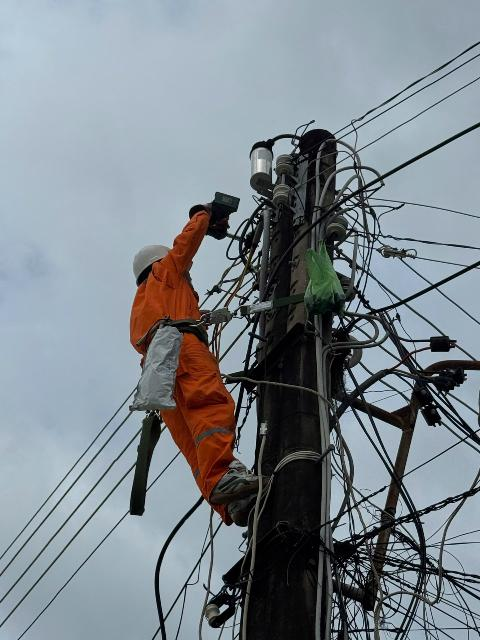gloves: (188, 192, 252, 242)
harness: (124, 315, 232, 353)
helmet: (124, 231, 183, 288)
shoes: (205, 448, 275, 509), (221, 481, 272, 533)
